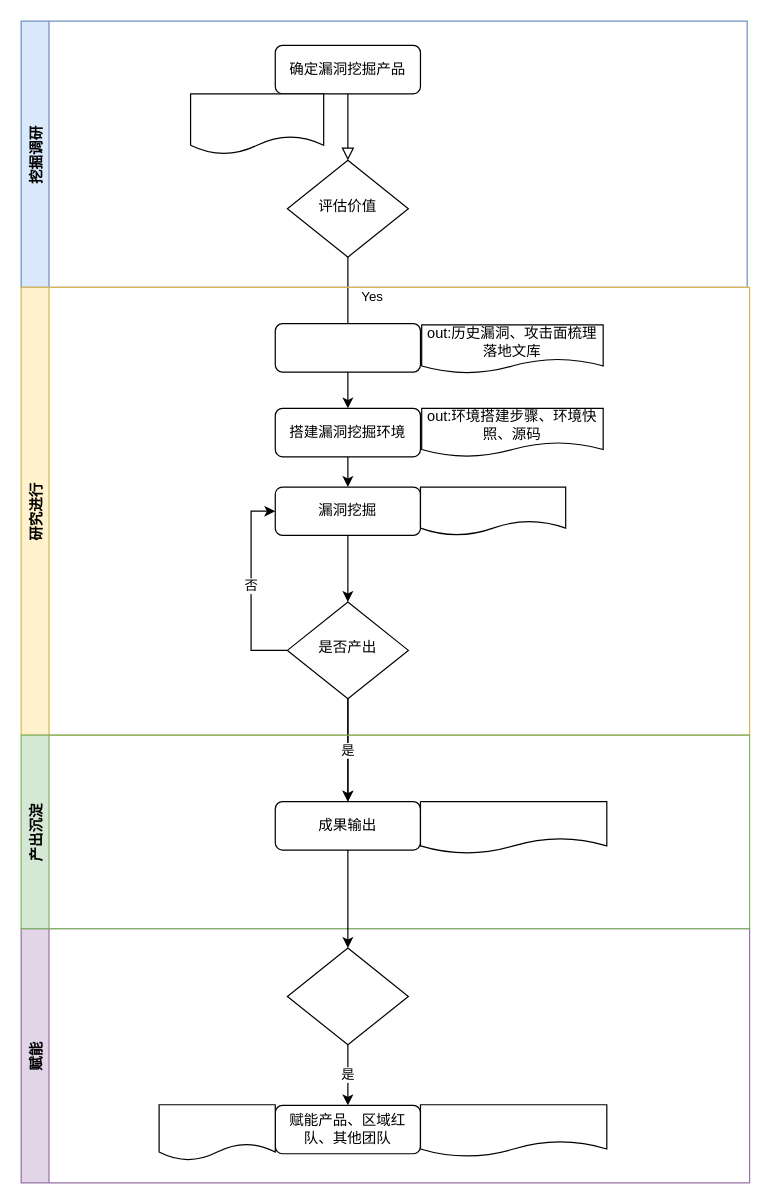
Some shapes in this 771 by 1204 pixel diagram are drawn without their labels. The centre of each missing label's shape, as x and y in pixels:
"iput:源码、运行环境、漏洞需求" goes at point (256, 123).
"iput:漏洞环境、ss代理" goes at point (216, 1132).
"out:checklist，关键函数、功能、攻击面" goes at point (492, 510).
"out:协助攻击、POC提供" goes at point (513, 1130).
"out:工具化漏洞利用脚本、检测POC" goes at point (513, 827).
"梳理产品历史漏洞" goes at point (347, 347).
"赋能支持" goes at point (347, 996).
